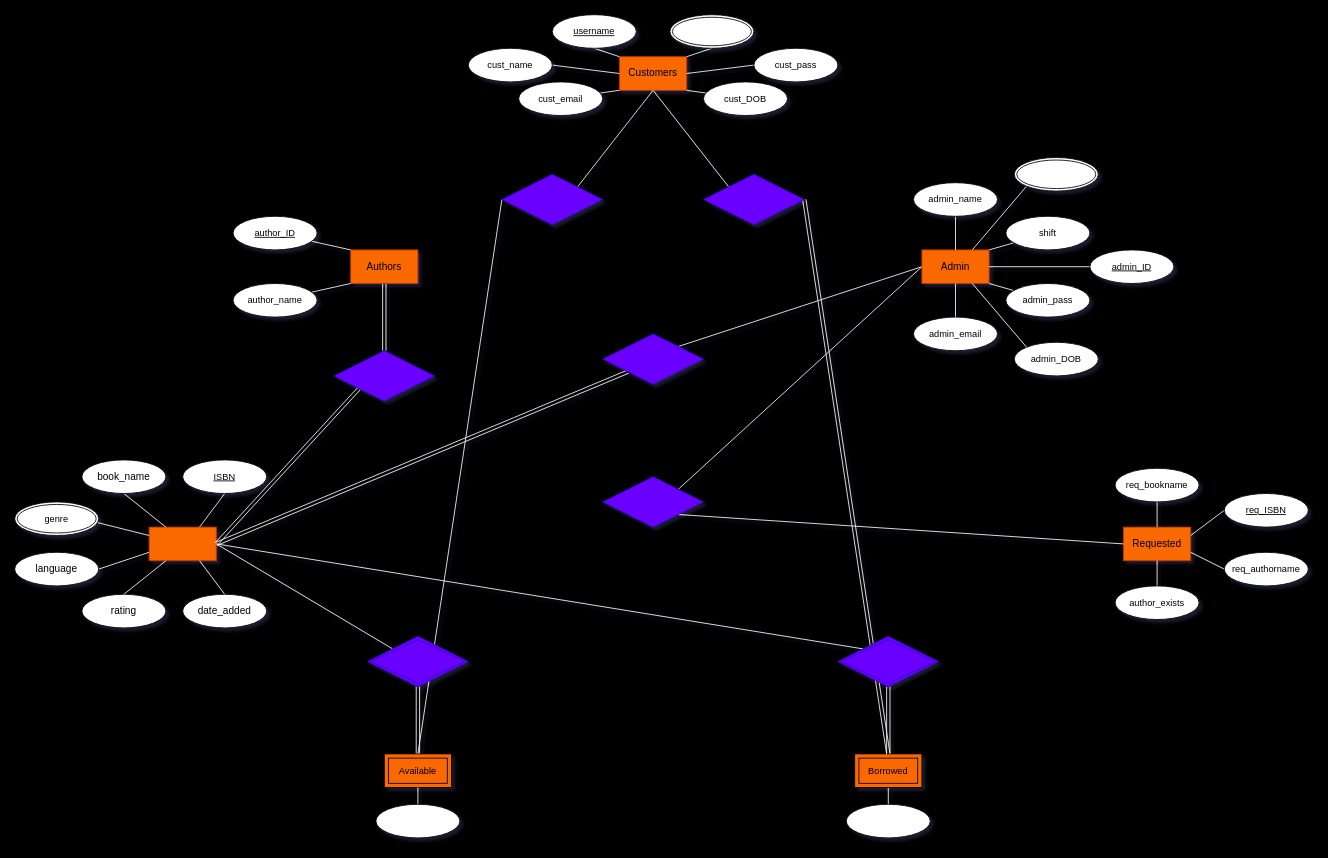
This 1328x858 diagram has some shape labels left out. The shapes that lost their labels are listed below. From the top down, each one's centre as x and y in pixels, then its label:
At point (711, 31): "cust_phone".
At point (1055, 174): "admin_phone".
At point (552, 199): "take".
At point (753, 199): "return".
At point (384, 375): "have".
At point (653, 358): "supervises".
At point (653, 501): "approves".
At point (182, 543): "Books".
At point (417, 661): "are".
At point (888, 661): "were".
At point (417, 820): "av_copies".
At point (887, 820): "bor_copies".
